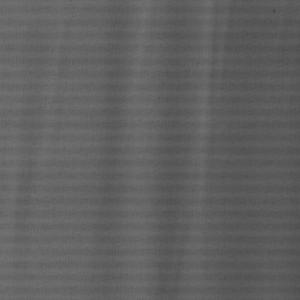Wrinkle: (10, 1, 252, 300)
